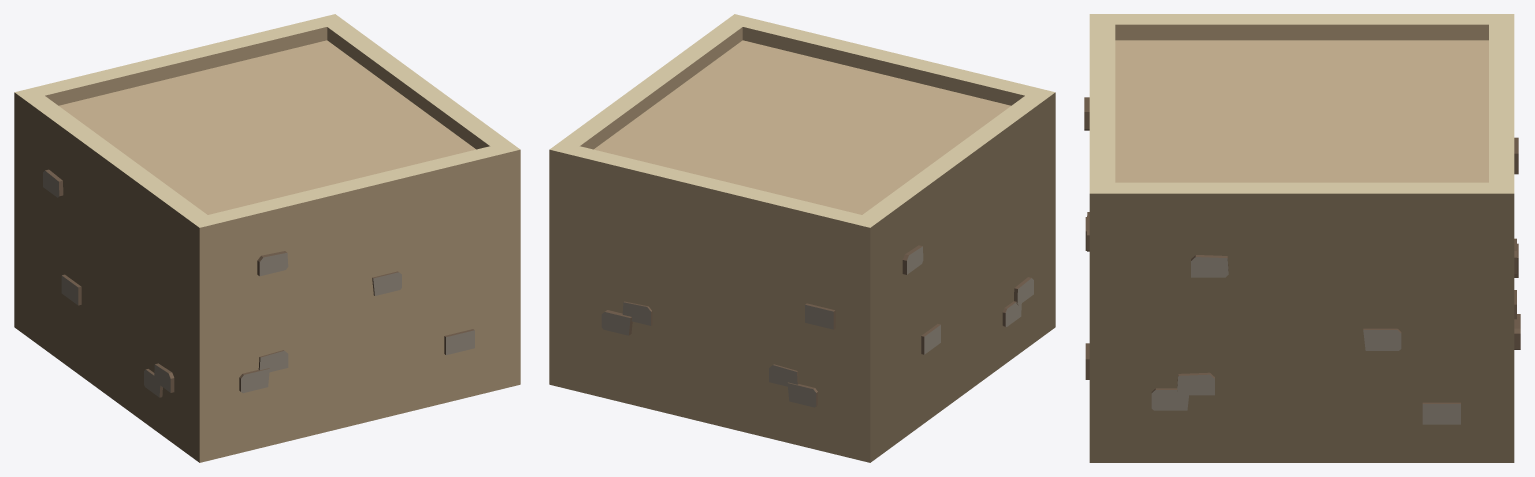
Rendered from TB_D_Bd_Body.FBX.
3 renders of one model, left to right at view 1: azimuth 30°, elevation 25°; view 2: azimuth 150°, elevation 25°; view 3: azimuth 270°, elevation 25°, orthographic. The views are drawn at different scales.
Visible parts, largest first — view 1: TB_D_Bd_Body; view 2: TB_D_Bd_Body; view 3: TB_D_Bd_Body.
Boxes of the visible parts, box(x1,y1,x2,y2) form: TB_D_Bd_Body: box(14, 14, 520, 462); TB_D_Bd_Body: box(549, 14, 1055, 462); TB_D_Bd_Body: box(1084, 14, 1520, 462).
Size of the model in its own units: 5.12 by 3.5 by 5.14.
